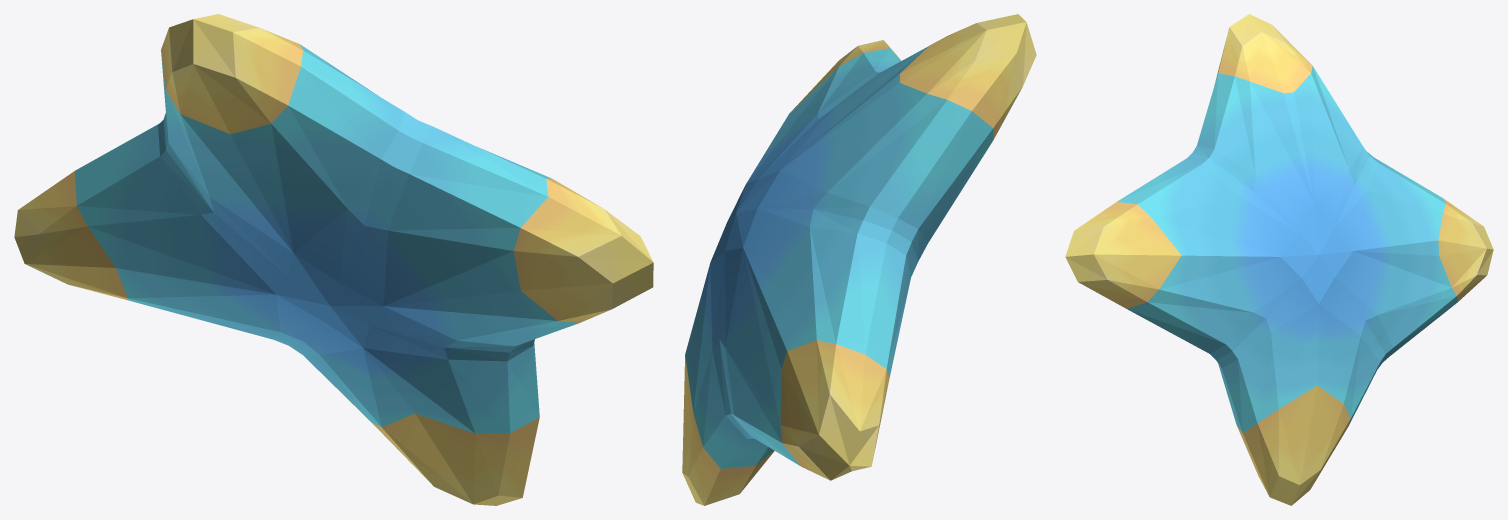
The model's file is CharSkyNPC_Horn_AP32Seastar.glb.
3 views of the same model, side by side, from view 1: azimuth 30°, elevation 25°; view 2: azimuth 150°, elevation 25°; view 3: azimuth 270°, elevation 25° (orthographic). The views are drawn at different scales.
Parts seen in each view (by area): view 1: CharSkyNPC_Horn_AP32Seastar; view 2: CharSkyNPC_Horn_AP32Seastar; view 3: CharSkyNPC_Horn_AP32Seastar.
Boxes of the visible parts, x1=… form: CharSkyNPC_Horn_AP32Seastar: x1=14, y1=14, x2=653, y2=505; CharSkyNPC_Horn_AP32Seastar: x1=682, y1=14, x2=1036, y2=505; CharSkyNPC_Horn_AP32Seastar: x1=1065, y1=14, x2=1493, y2=505.
Bounding box in the file's own units: 0.451 × 0.7045 × 0.7097.
Materials: 1 (1 with a texture image).
